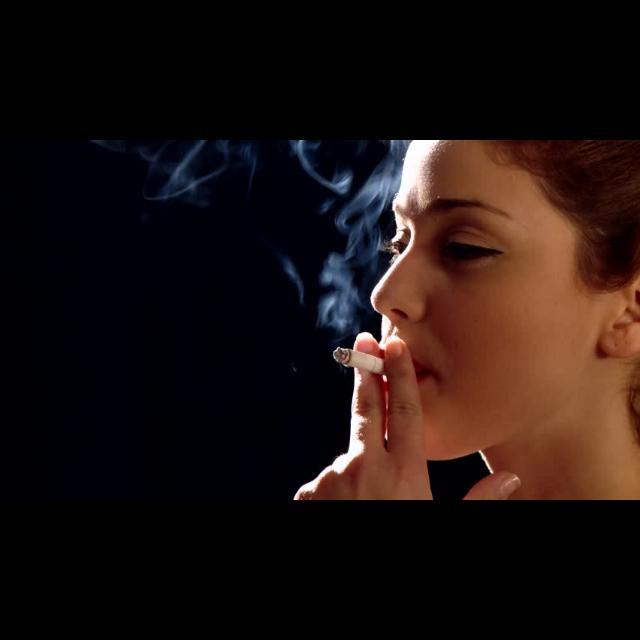rokok: (327, 338, 388, 376)
